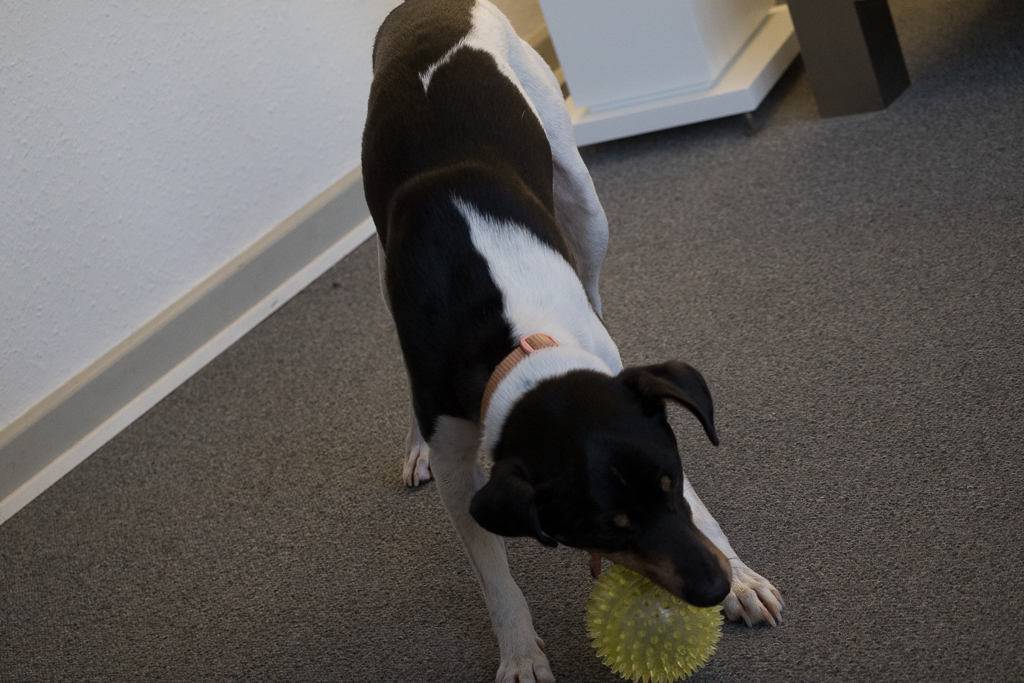Dog: (354, 0, 802, 683)
